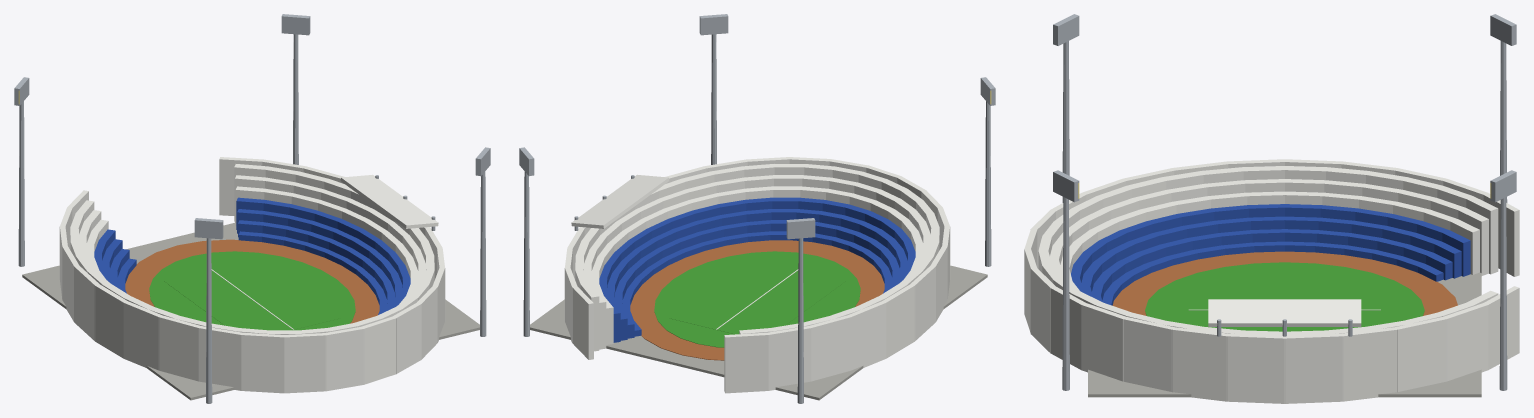
The model's file is env_lm2_stadium_merdeka.fbx.
The picture shows the model from 3 angles, left to right: view 1: azimuth 30°, elevation 25°; view 2: azimuth 150°, elevation 25°; view 3: azimuth 270°, elevation 25°; orthographic projection. The views are drawn at different scales.
Visible parts, largest first — view 1: env_lm2_stadium_merdeka_geo_LOD0; view 2: env_lm2_stadium_merdeka_geo_LOD0; view 3: env_lm2_stadium_merdeka_geo_LOD0.
Part boxes in pixels (x1=…): env_lm2_stadium_merdeka_geo_LOD0: x1=14, y1=14, x2=490, y2=403; env_lm2_stadium_merdeka_geo_LOD0: x1=519, y1=14, x2=995, y2=403; env_lm2_stadium_merdeka_geo_LOD0: x1=1024, y1=14, x2=1519, y2=403.
Size of what is drawn, in the model's own units: 38.83 by 21.8 by 45.3.
